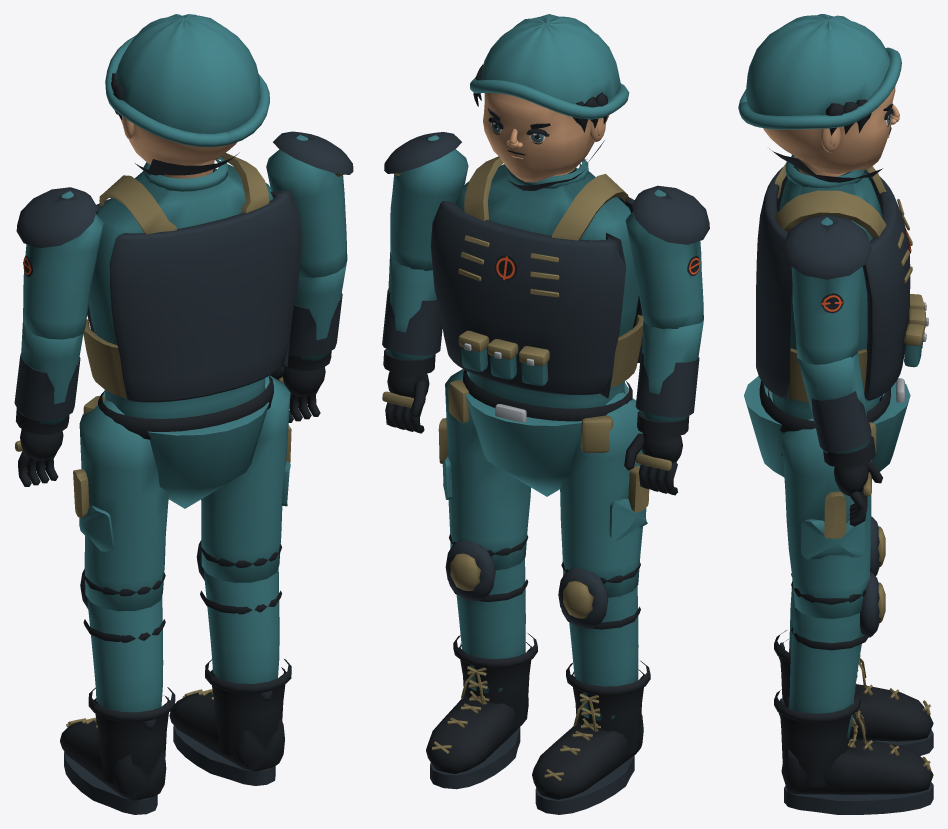
Rendered from kf-knife.glb.
The picture shows the model from 3 angles, left to right: view 1: azimuth 30°, elevation 25°; view 2: azimuth 150°, elevation 25°; view 3: azimuth 270°, elevation 25°; orthographic projection. The views are drawn at different scales.
Parts seen in each view (by area): view 1: Torso Ceramic armor, Torso Woven uniform, Head Woven uniform, Leg_R Woven uniform, Knee_L Rubber and hair, Knee_R Rubber and hair, Leg_L Woven uniform, Knee_L Woven uniform, Knee_R Woven uniform, Arm_R Woven uniform, Arm_L Woven uniform, Torso Webbing (+12 smaller); view 2: Torso Ceramic armor, Torso Woven uniform, Head Woven uniform, Leg_R Woven uniform, Knee_R Rubber and hair, Knee_L Rubber and hair, Torso Webbing, Leg_L Woven uniform, Head Skin, Arm_R Woven uniform, Arm_L Woven uniform, Knee_R Woven uniform (+18 smaller); view 3: Head Woven uniform, Torso Ceramic armor, Knee_L Rubber and hair, Leg_L Woven uniform, Torso Woven uniform, Knee_L Woven uniform, Torso Webbing, Arm_L Woven uniform, Head Skin, Knee_R Rubber and hair, Arm_L Ceramic armor, Elbow_L Ceramic armor (+8 smaller).
Boxes of the visible parts, box(x1,y1,x2,y2) form: Torso Ceramic armor: box(87, 190, 301, 402); Torso Woven uniform: box(89, 156, 273, 508); Head Woven uniform: box(105, 14, 269, 146); Leg_R Woven uniform: box(79, 400, 168, 611); Knee_L Rubber and hair: box(169, 544, 291, 785); Knee_R Rubber and hair: box(60, 572, 175, 814); Leg_L Woven uniform: box(201, 375, 290, 582); Knee_L Woven uniform: box(203, 568, 279, 683); Knee_R Woven uniform: box(87, 596, 163, 712); Arm_R Woven uniform: box(23, 191, 103, 339); Arm_L Woven uniform: box(266, 135, 347, 277); Torso Webbing: box(83, 153, 269, 414); Torso Ceramic armor: box(430, 196, 642, 398); Torso Woven uniform: box(455, 159, 638, 496); Head Woven uniform: box(470, 14, 629, 119); Leg_R Woven uniform: box(560, 392, 647, 597); Knee_R Rubber and hair: box(532, 562, 650, 814); Knee_L Rubber and hair: box(426, 534, 537, 789); Torso Webbing: box(448, 156, 643, 452); Leg_L Woven uniform: box(442, 369, 530, 570); Head Skin: box(483, 93, 609, 182); Arm_R Woven uniform: box(625, 189, 703, 329); Arm_L Woven uniform: box(390, 135, 468, 270); Knee_R Woven uniform: box(569, 586, 638, 720); Head Woven uniform: box(738, 14, 901, 129); Torso Ceramic armor: box(756, 165, 910, 405); Knee_L Rubber and hair: box(774, 581, 933, 814); Leg_L Woven uniform: box(781, 418, 871, 618); Torso Woven uniform: box(744, 155, 922, 477); Knee_L Woven uniform: box(789, 605, 863, 739); Torso Webbing: box(775, 156, 925, 453); Arm_L Woven uniform: box(791, 217, 862, 364); Head Skin: box(763, 86, 899, 173); Knee_R Rubber and hair: box(774, 573, 933, 755); Arm_L Ceramic armor: box(782, 214, 871, 279); Elbow_L Ceramic armor: box(812, 391, 871, 452).
Bounding box in the file's own units: 0.838 × 1.9 × 0.4453.
